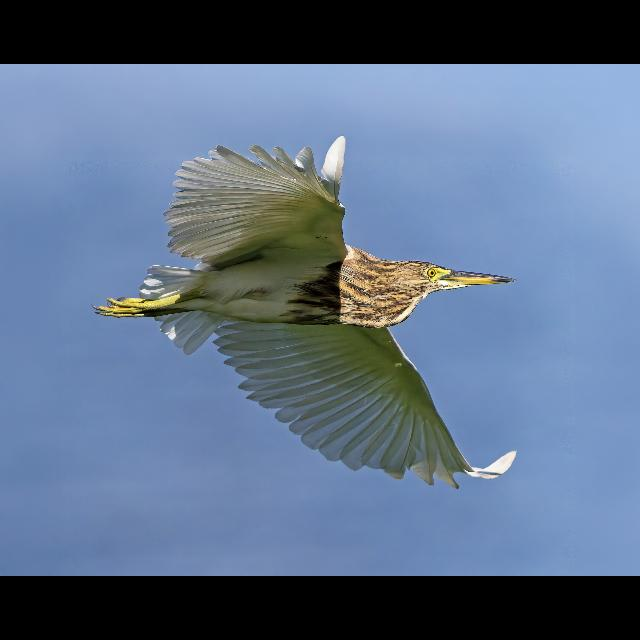heron: (109, 142, 515, 488)
